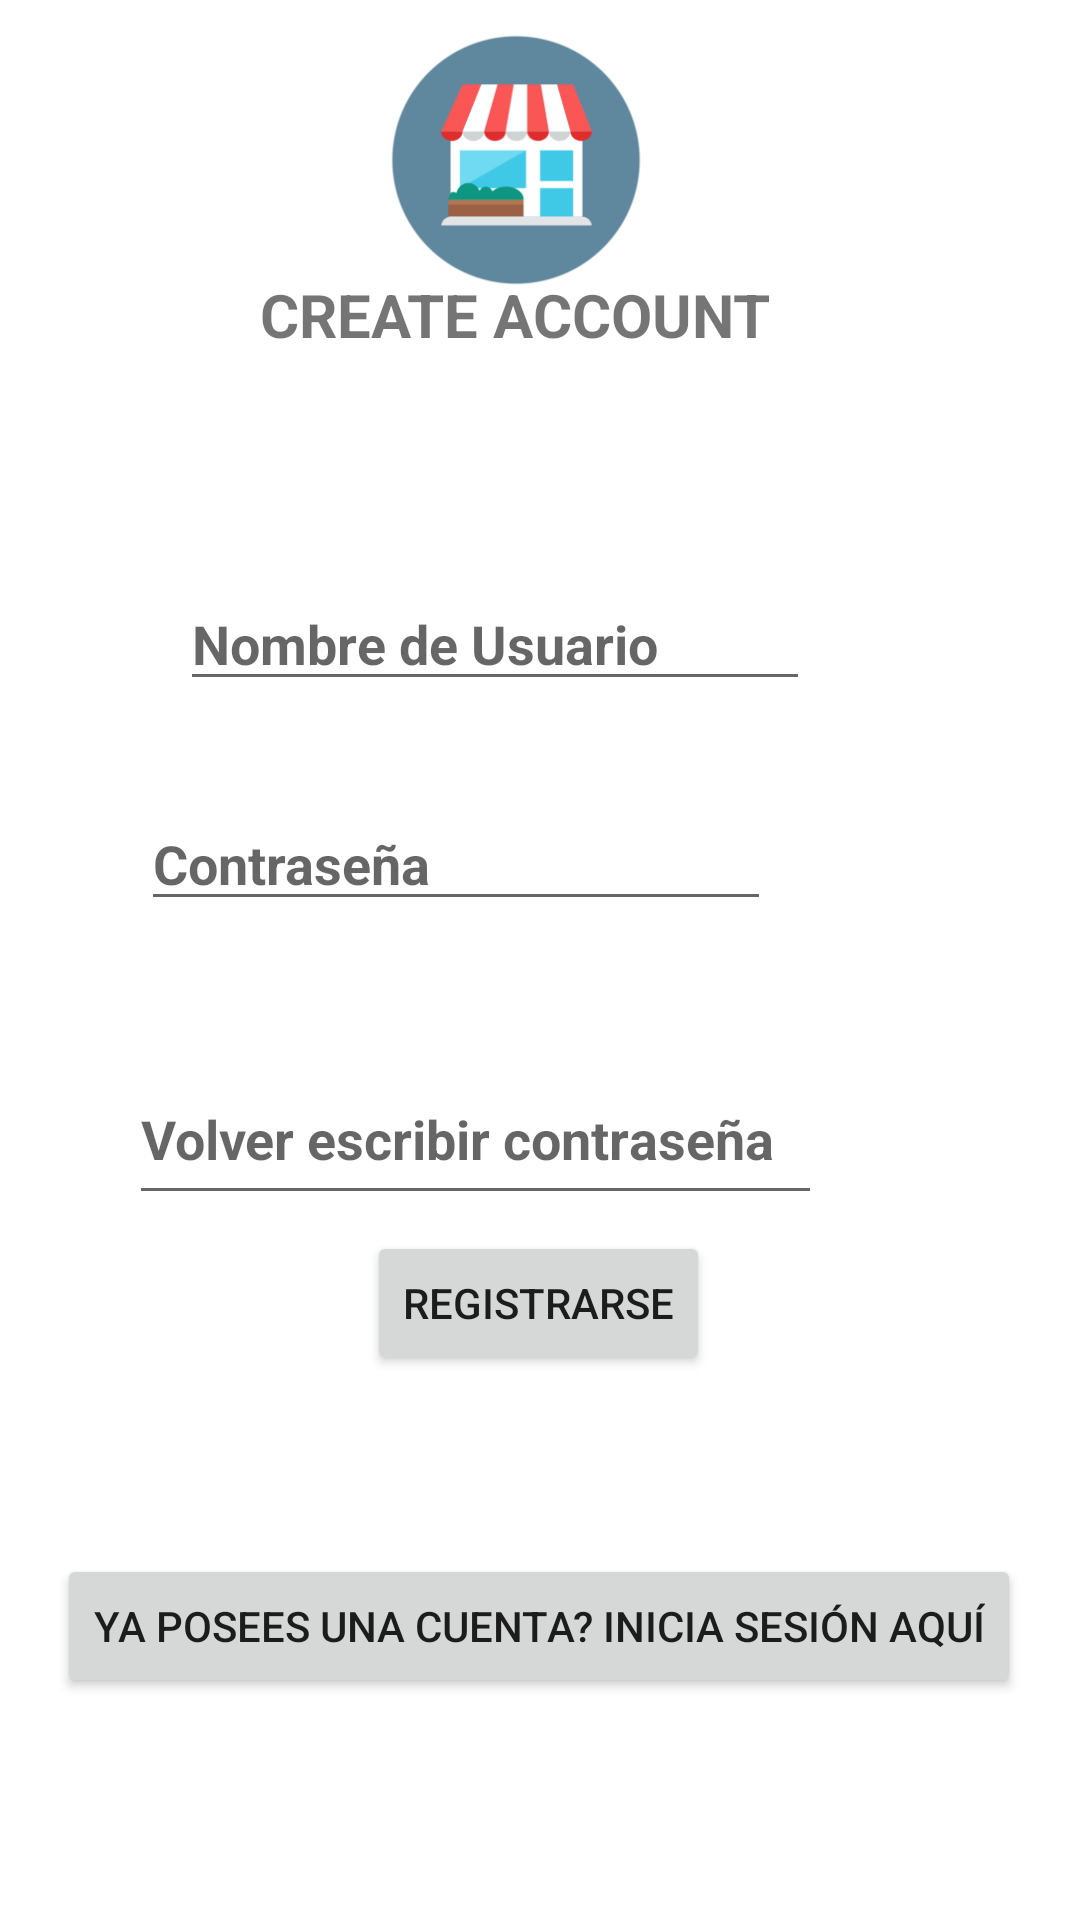

Icons on this 1080px×1920px Android screen, each with the point to tap as (x=x, y=y):
tiendaas: (x=516, y=160)
